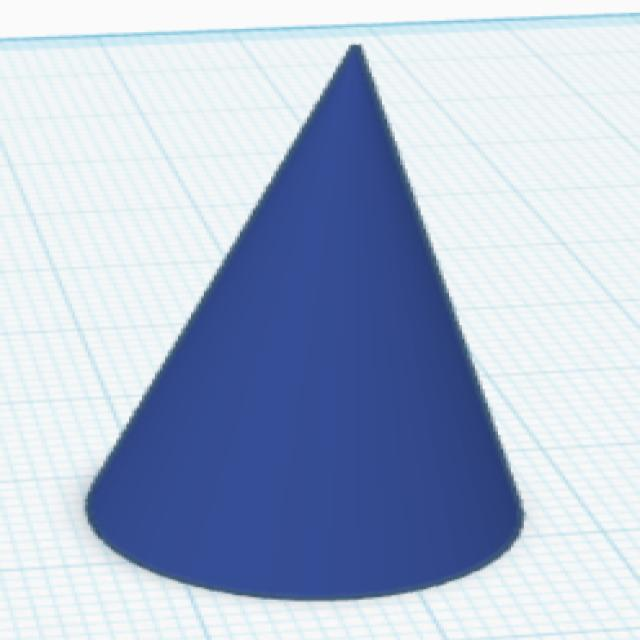cone: (77, 38, 536, 606)
